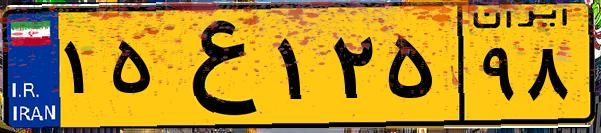1: (270, 28, 330, 110), (57, 26, 110, 100)
2: (330, 28, 385, 110)
5: (385, 28, 445, 110), (110, 28, 158, 98)
8: (525, 38, 570, 115)
9: (475, 38, 525, 113)
ع: (158, 12, 270, 120)
